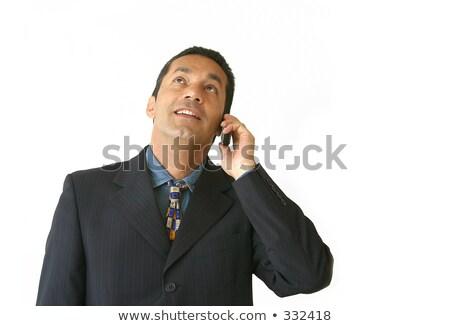phone: (218, 111, 244, 154)
talk: (161, 64, 251, 171)
